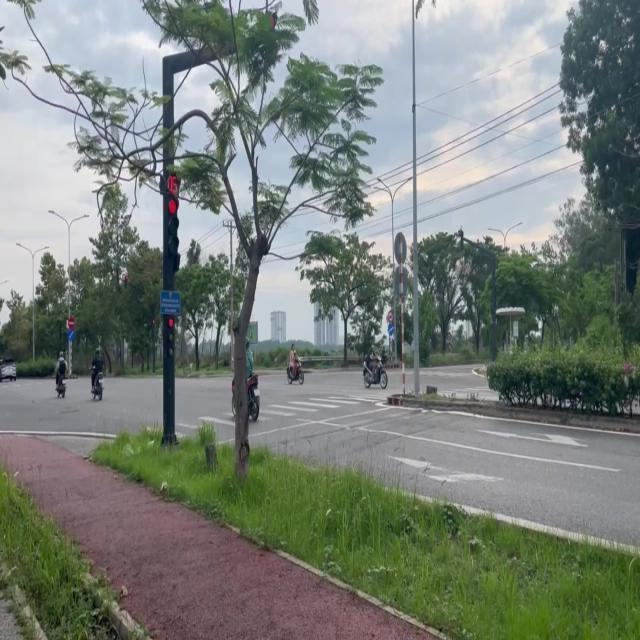red_light: (159, 168, 178, 286)
